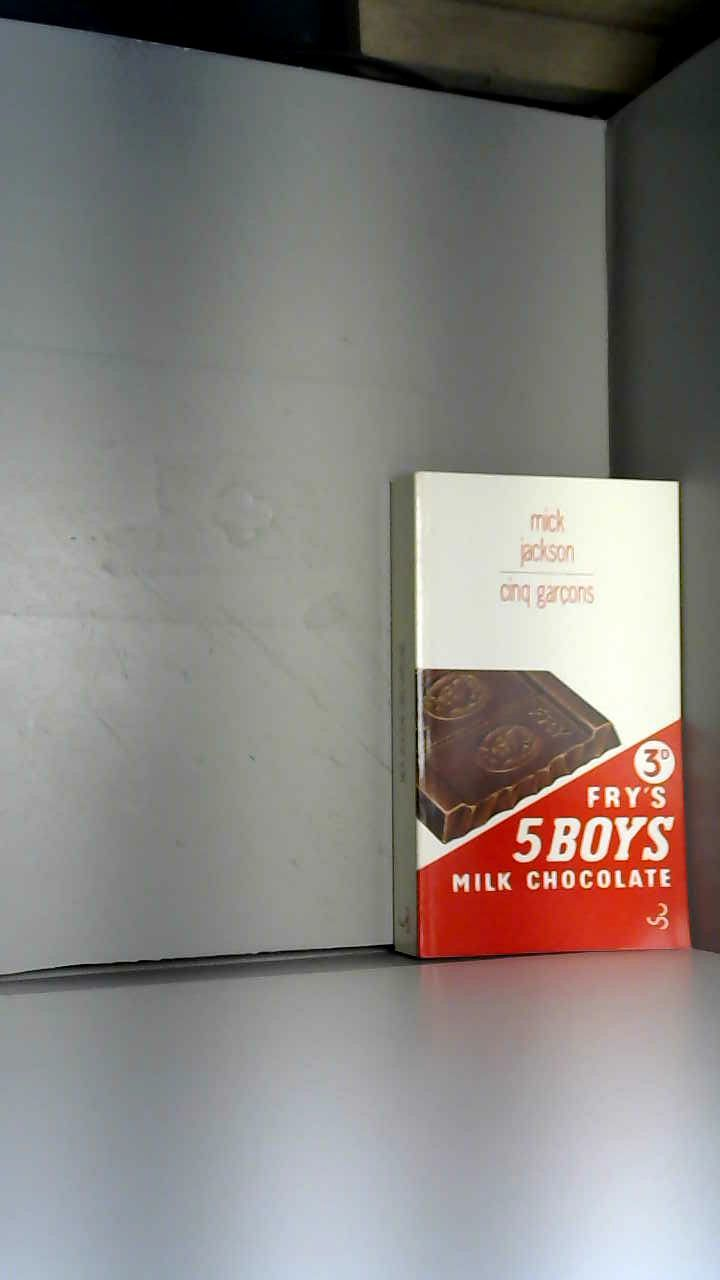book: (347, 429, 720, 988)
